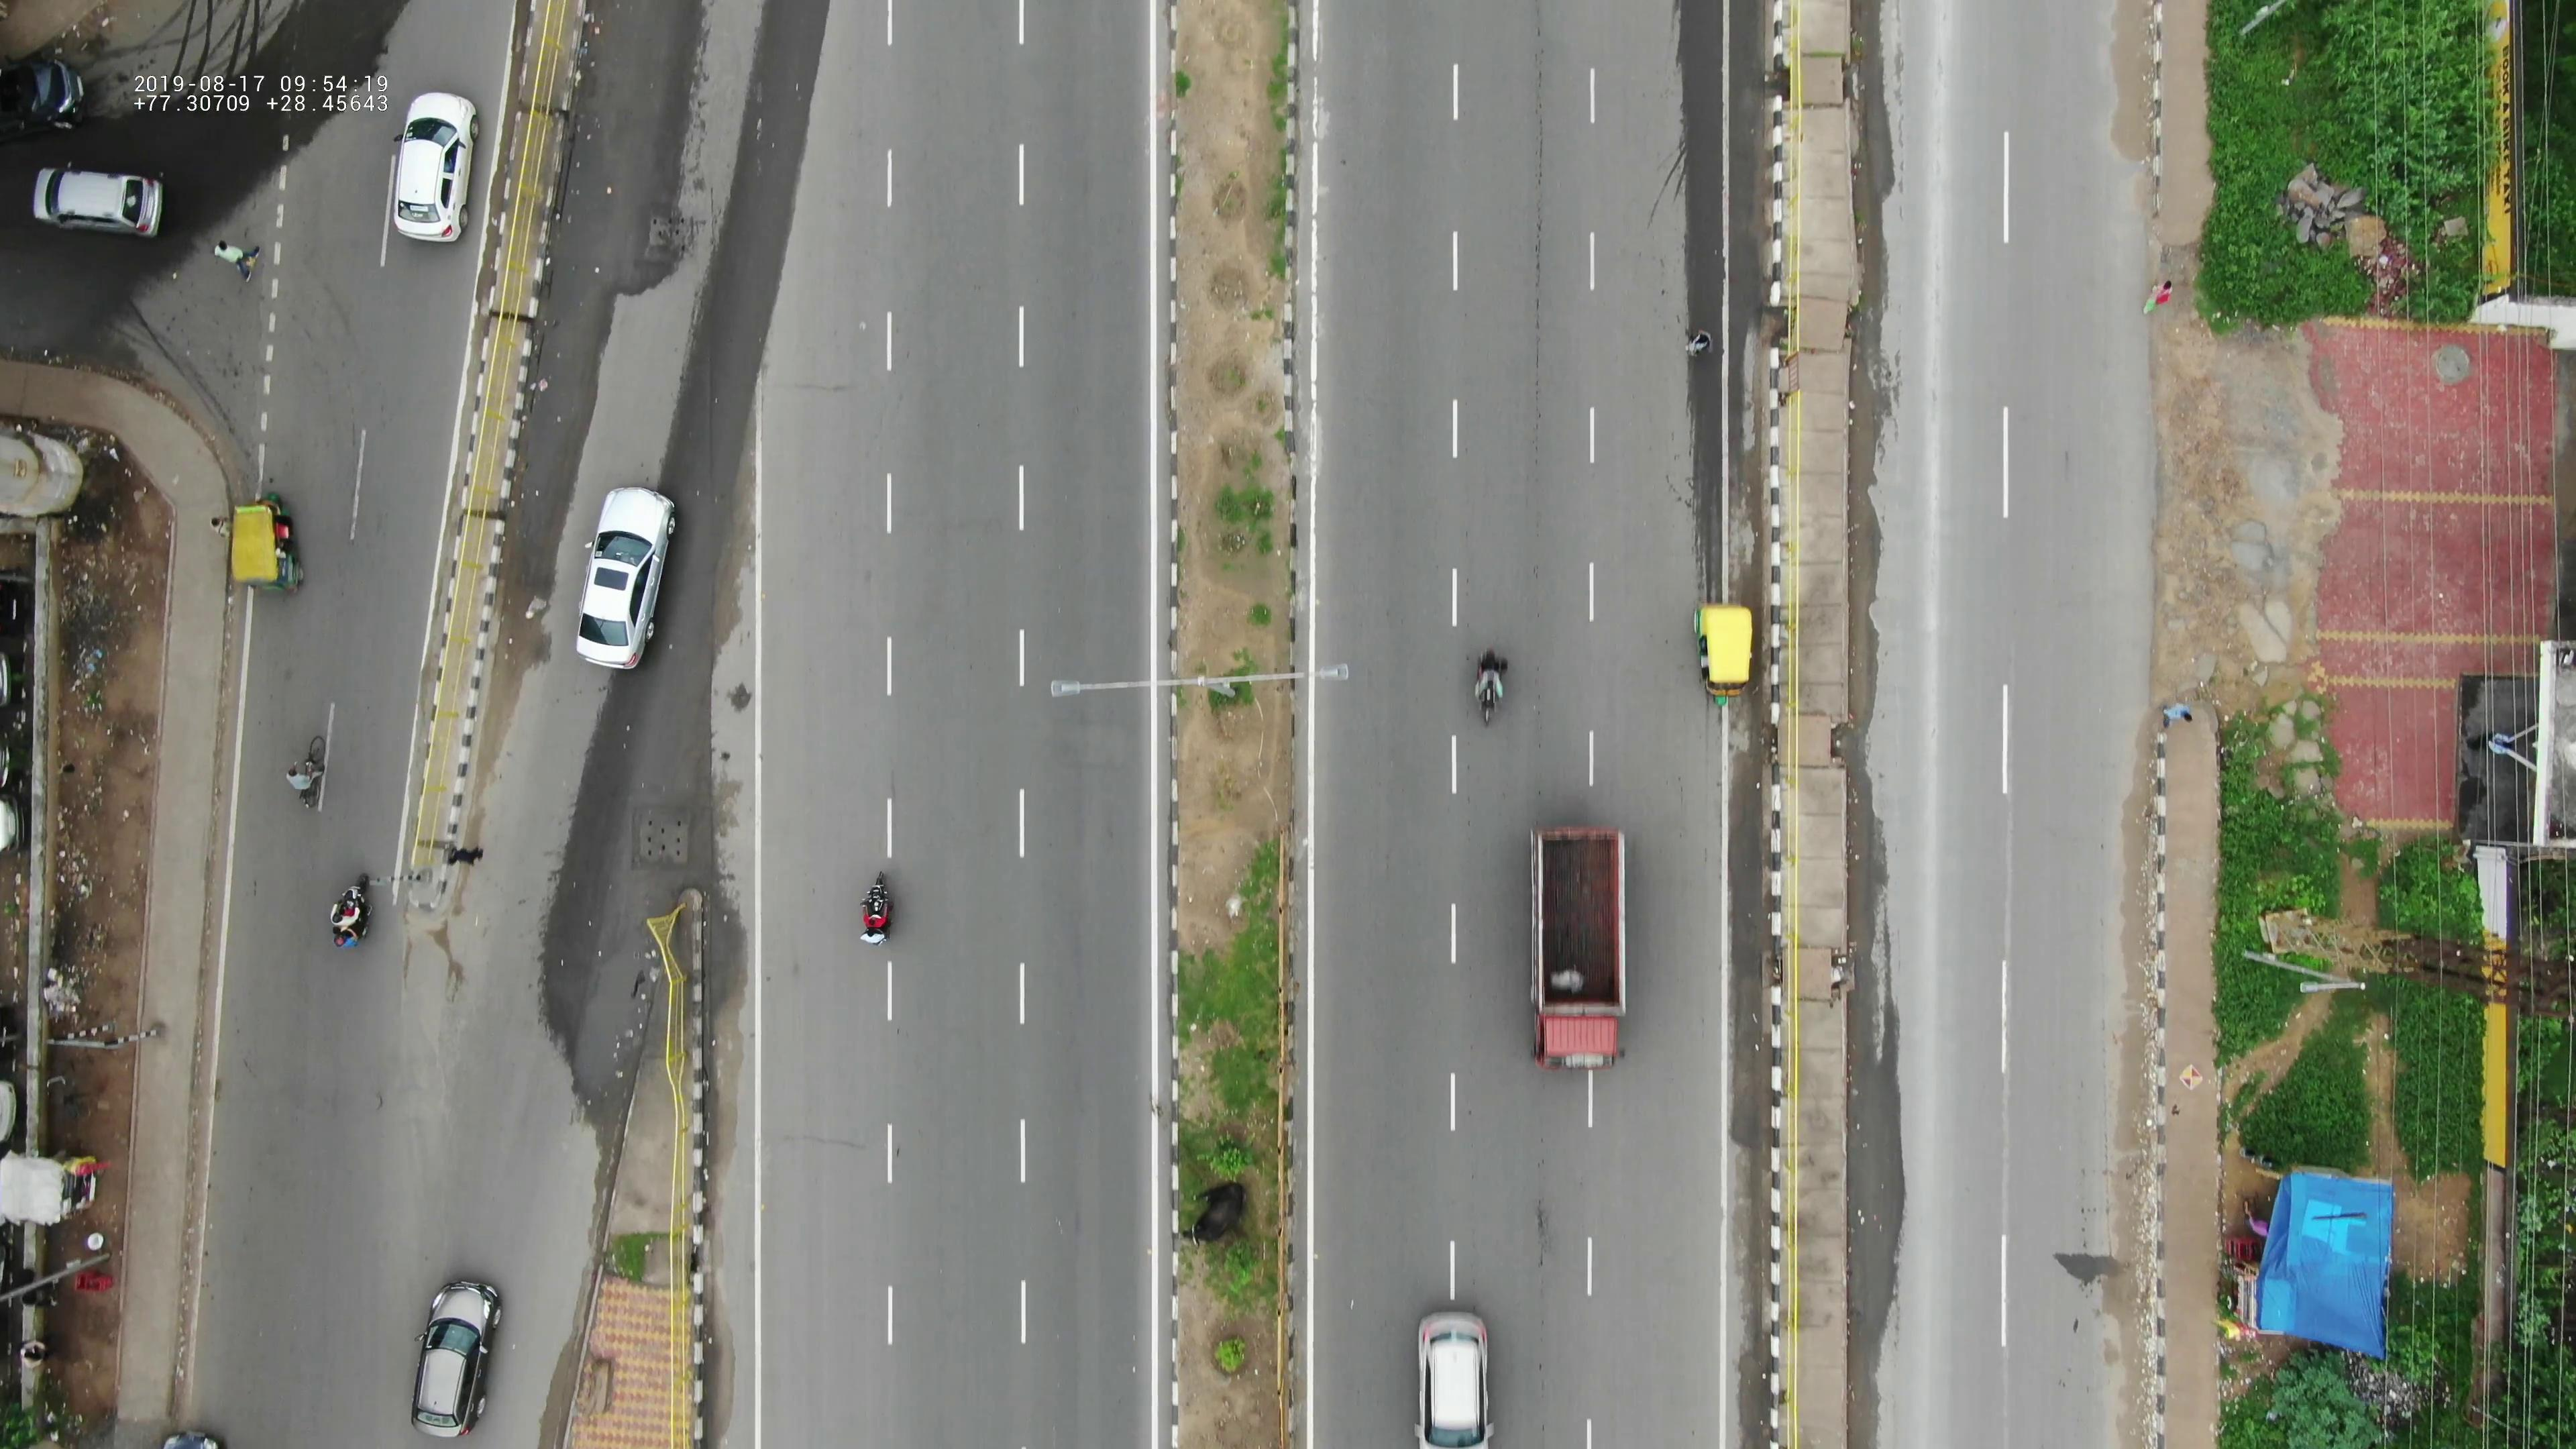Muddy_road: (2104, 4, 2164, 157)
